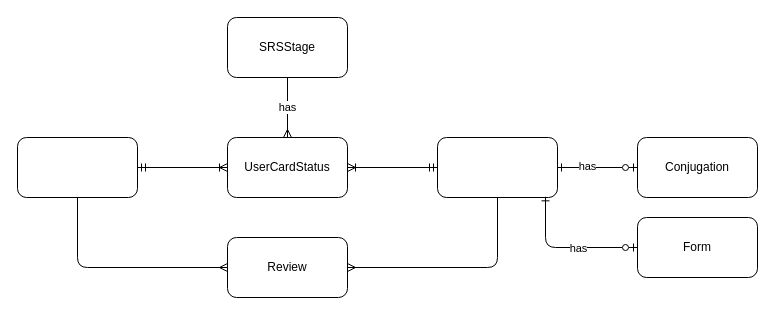
This 775x315 diagram has some shape labels left out. The shapes that lost their labels are listed below. From the top down, each one's box as (x1, y1, x2, y2) in pixels, then its label:
(16, 136, 138, 198): User
(436, 136, 558, 198): Card
